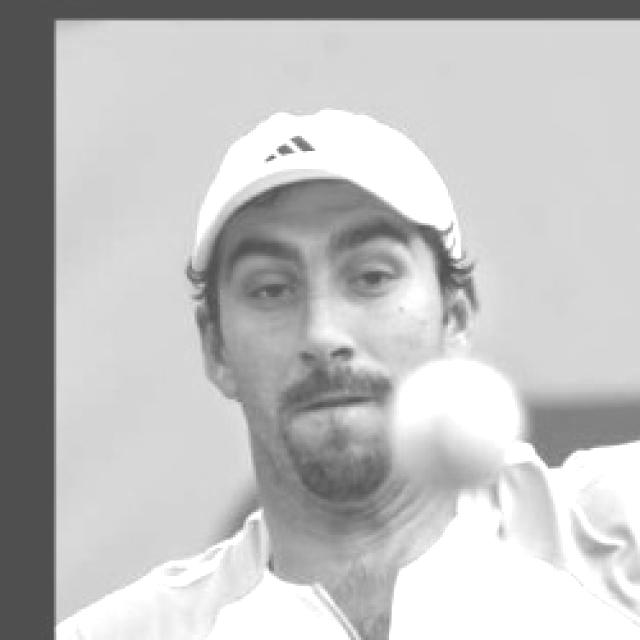real: (192, 170, 468, 517), (239, 236, 415, 318)
